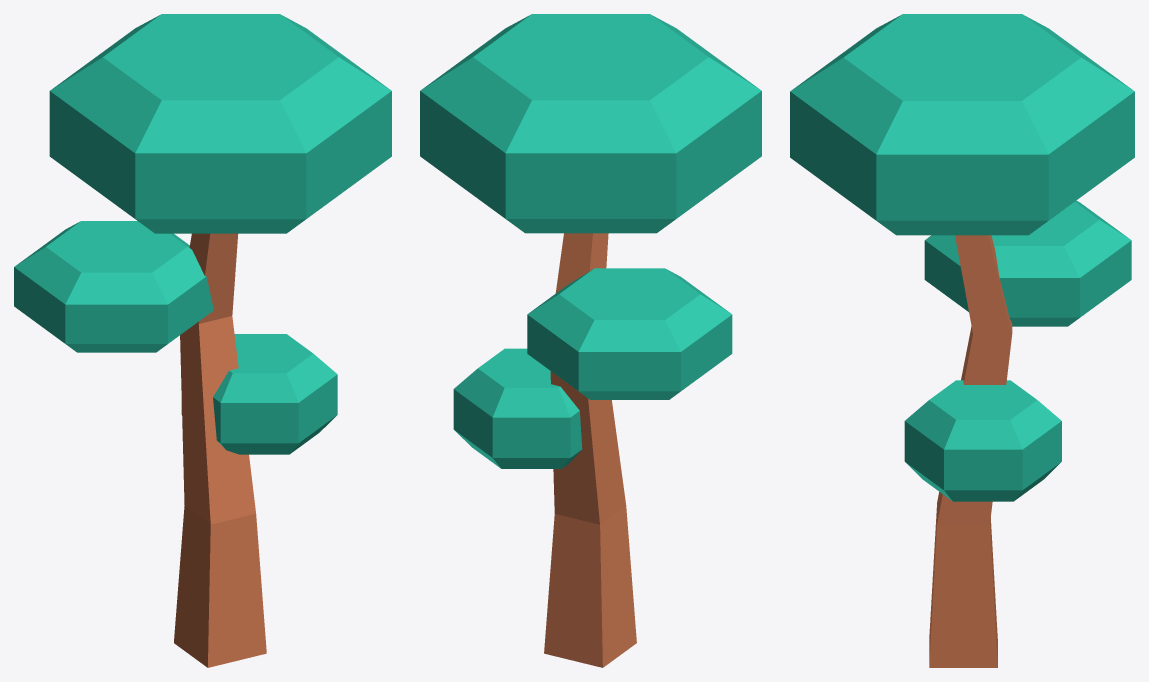
The model's file is kenney_tree_plateau.glb.
The picture shows the model from 3 angles, left to right: view 1: azimuth 30°, elevation 25°; view 2: azimuth 150°, elevation 25°; view 3: azimuth 270°, elevation 25°; orthographic projection.
Visible parts, largest first — view 1: tree_plateau; view 2: tree_plateau; view 3: tree_plateau.
Boxes of the visible parts, x1,y1,x2,y2 form: tree_plateau: (14, 14, 391, 667); tree_plateau: (420, 14, 761, 667); tree_plateau: (790, 14, 1134, 667).
Size of the model in its own units: 0.6117 by 1.25 by 0.6549.
